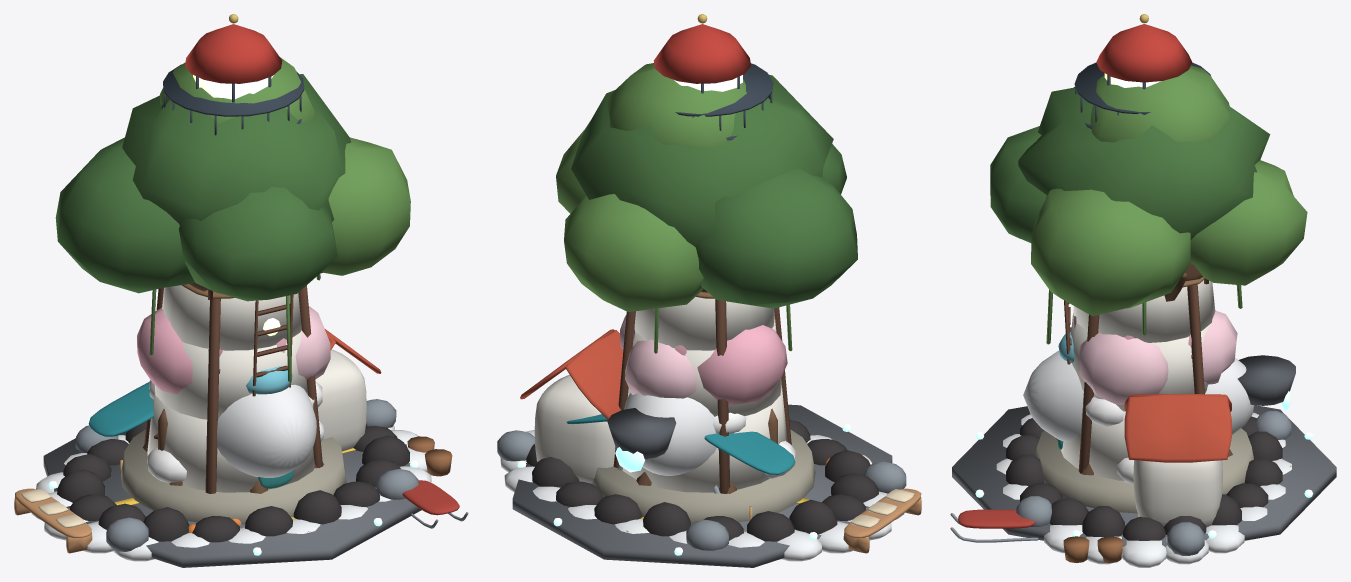
File: granja_astra_paisaje.glb
3 renders of one model, left to right at view 1: azimuth 30°, elevation 25°; view 2: azimuth 150°, elevation 25°; view 3: azimuth 270°, elevation 25°, orthographic. The views are drawn at different scales.
Parts seen in each view (by area): view 1: copa niebla 0, tramo faro 0, roca terma 0, copa niebla 1, plataforma.001, casco nave, base faro, cúpula faro, nieve borde 0, larguero escalera -1, casita farero, roca estanque 0 (+13 smaller); view 2: copa niebla 0, copa niebla 1, roca terma 0, plataforma.001, tramo faro 0, base faro, casita farero, copa cerezo 0, nieve borde 0, cúpula faro, casco nave, techo casita farero -1 (+9 smaller); view 3: copa niebla 1, copa niebla 0, plataforma.001, roca terma 0, tramo faro 0, techo casita farero -1, copa cerezo 1, casco nave, casita farero, nieve borde 0, base faro, cúpula faro (+8 smaller).
Part boxes in pixels (x1=…): copa niebla 0: x1=55, y1=74, x2=350, y2=301; tramo faro 0: x1=147, y1=285, x2=314, y2=492; roca terma 0: x1=57, y1=421, x2=409, y2=542; copa niebla 1: x1=160, y1=57, x2=410, y2=275; plataforma.001: x1=43, y1=432, x2=421, y2=567; casco nave: x1=217, y1=384, x2=316, y2=477; base faro: x1=120, y1=429, x2=346, y2=524; cúpula faro: x1=185, y1=24, x2=282, y2=83; nieve borde 0: x1=31, y1=425, x2=431, y2=561; larguero escalera -1: x1=144, y1=285, x2=322, y2=493; casita farero: x1=315, y1=349, x2=366, y2=451; roca estanque 0: x1=75, y1=399, x2=418, y2=551; copa niebla 0: x1=571, y1=74, x2=857, y2=308; copa niebla 1: x1=556, y1=63, x2=746, y2=312; roca terma 0: x1=526, y1=419, x2=878, y2=541; plataforma.001: x1=512, y1=404, x2=892, y2=567; tramo faro 0: x1=622, y1=297, x2=787, y2=492; base faro: x1=592, y1=429, x2=815, y2=524; casita farero: x1=534, y1=375, x2=615, y2=483; copa cerezo 0: x1=632, y1=325, x2=787, y2=405; nieve borde 0: x1=500, y1=430, x2=904, y2=561; cúpula faro: x1=653, y1=24, x2=750, y2=83; casco nave: x1=624, y1=393, x2=716, y2=475; techo casita farero -1: x1=520, y1=329, x2=623, y2=419; copa niebla 1: x1=1031, y1=65, x2=1307, y2=316; copa niebla 0: x1=990, y1=87, x2=1270, y2=242; plataforma.001: x1=952, y1=405, x2=1336, y2=546; roca terma 0: x1=1006, y1=416, x2=1282, y2=540; tramo faro 0: x1=1061, y1=280, x2=1215, y2=480; techo casita farero -1: x1=1124, y1=394, x2=1231, y2=462; copa cerezo 1: x1=1079, y1=310, x2=1237, y2=404; casco nave: x1=1023, y1=351, x2=1254, y2=441; casita farero: x1=1133, y1=460, x2=1222, y2=527; nieve borde 0: x1=996, y1=412, x2=1291, y2=567; base faro: x1=1035, y1=428, x2=1253, y2=513; cúpula faro: x1=1096, y1=24, x2=1192, y2=82.
Size of the model in its own units: 7.62 by 9.29 by 6.83.
